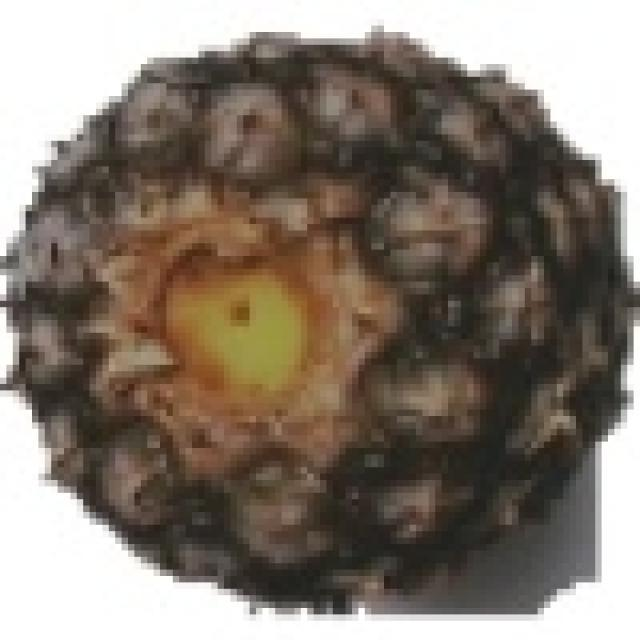pineapple: (6, 26, 608, 602)
